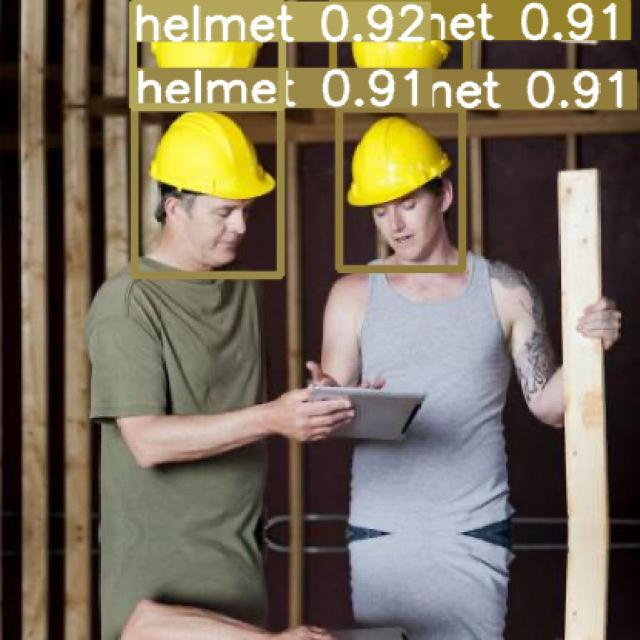Helmet: (148, 110, 276, 200), (346, 115, 451, 208)
